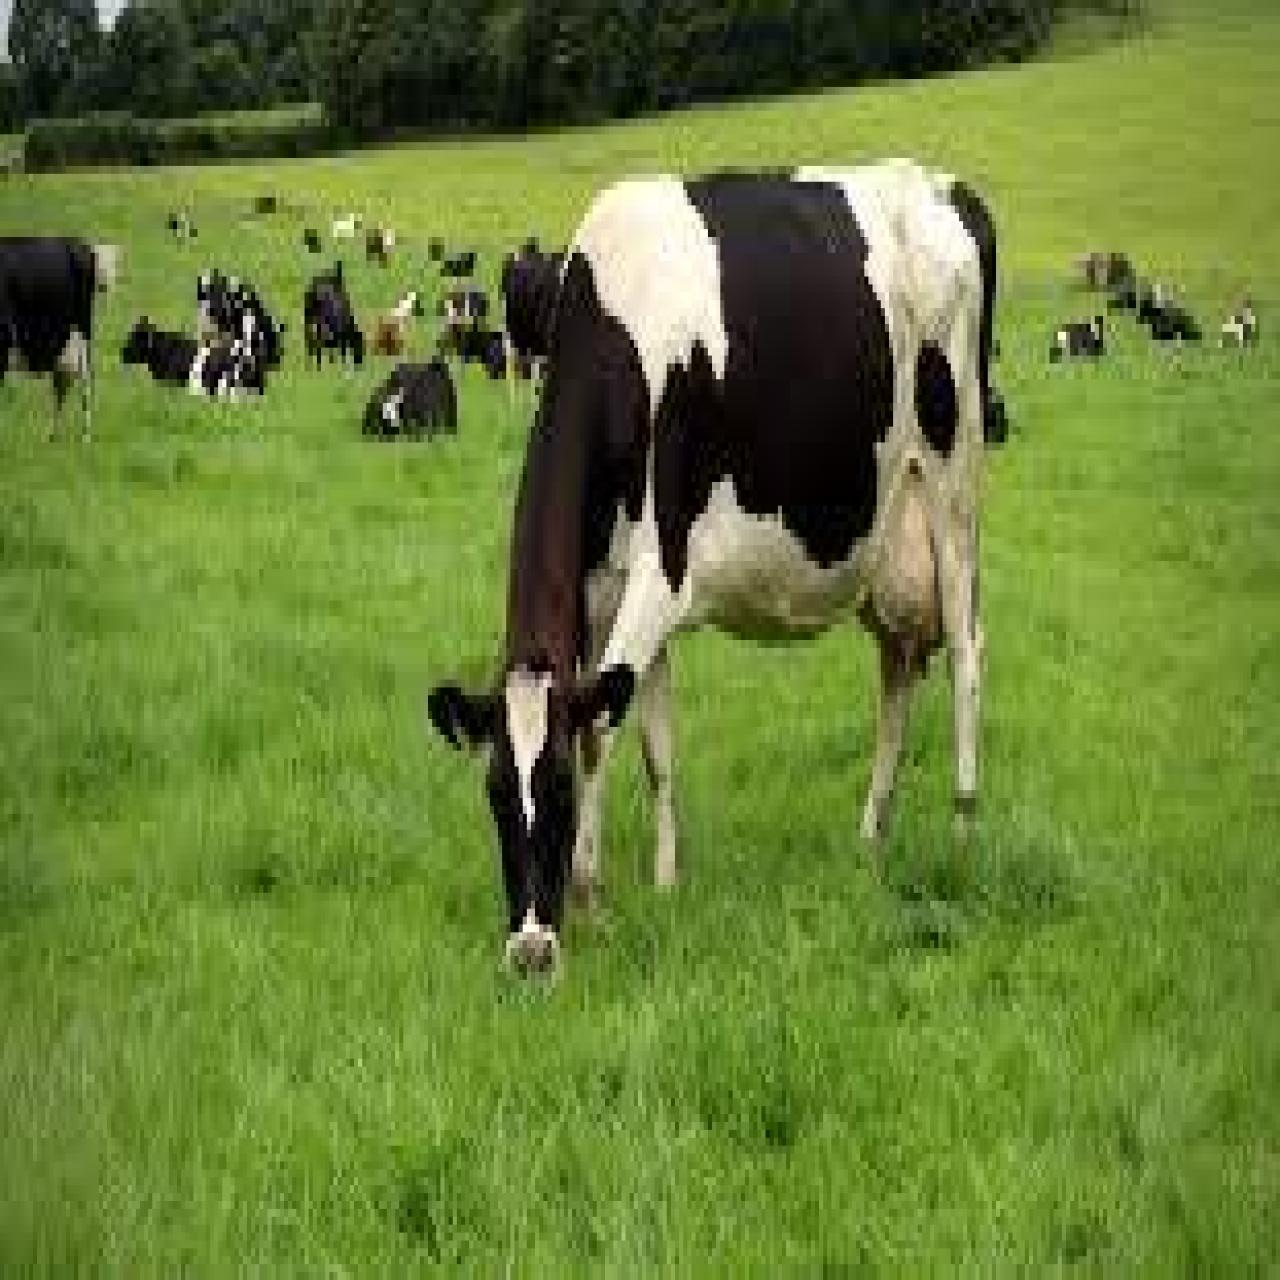cow: (425, 162, 1010, 992), (0, 230, 98, 450), (502, 237, 564, 411), (196, 265, 286, 375), (360, 360, 459, 447), (302, 260, 365, 380), (120, 312, 197, 392), (190, 336, 264, 407), (435, 324, 509, 380), (1138, 285, 1204, 347), (370, 285, 420, 355), (1050, 308, 1103, 372), (1219, 288, 1260, 352), (434, 288, 492, 328), (95, 237, 120, 316), (365, 213, 397, 268), (327, 210, 365, 248), (441, 240, 477, 280), (251, 190, 280, 213), (302, 222, 324, 253)
